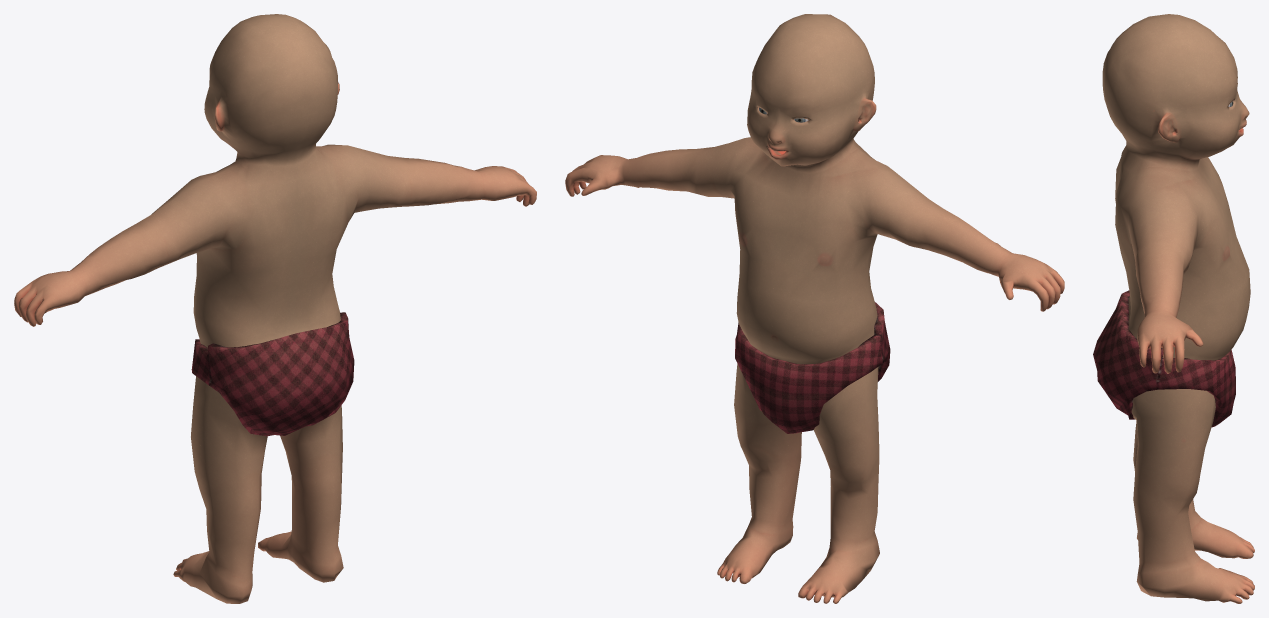
The model's file is baby-samurai.fbx.
3 views of the same model, side by side, from view 1: azimuth 30°, elevation 25°; view 2: azimuth 150°, elevation 25°; view 3: azimuth 270°, elevation 25° (orthographic). The views are drawn at different scales.
Visible parts, largest first — view 1: Baby_low; view 2: Baby_low; view 3: Baby_low.
Part boxes in pixels (box(x1,y1,x2,y2)): Baby_low: box(14, 14, 536, 603); Baby_low: box(565, 14, 1064, 603); Baby_low: box(1093, 14, 1254, 603).
Bounding box in the file's own units: 189 × 203 × 53.67.
Materials: 3 (3 with a texture image).
